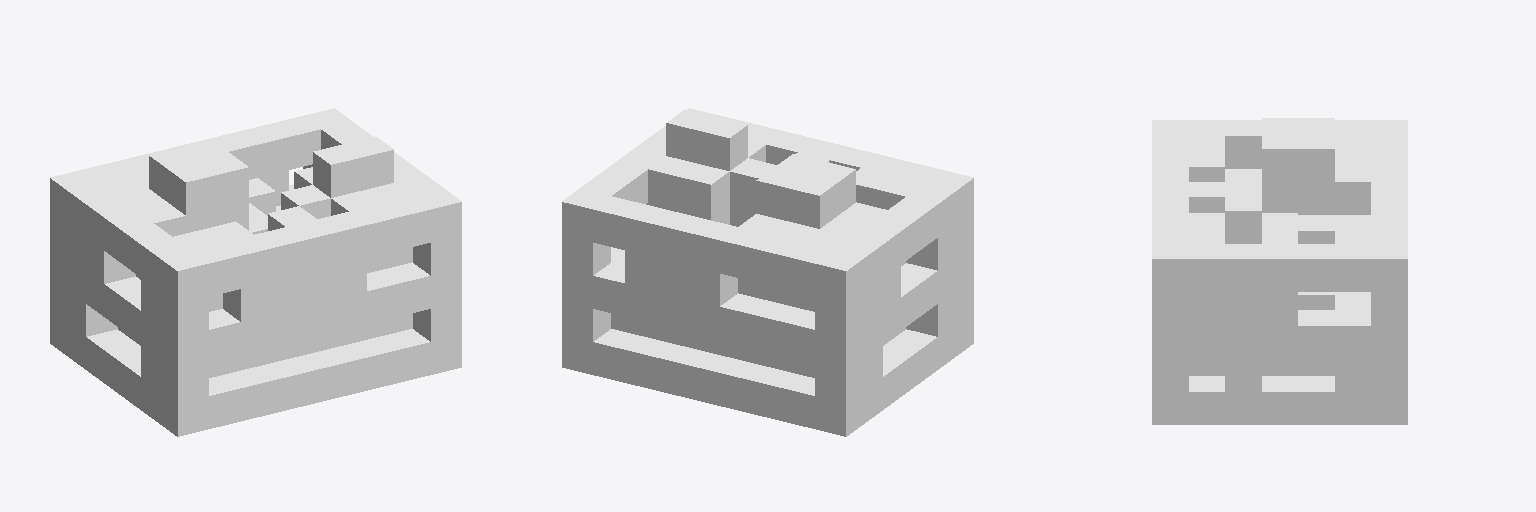
Rendered from box_red.vox.obj.
3 renders of one model, left to right at view 1: azimuth 30°, elevation 25°; view 2: azimuth 150°, elevation 25°; view 3: azimuth 270°, elevation 25°, orthographic.
Parts seen in each view (by area): view 1: object 1; view 2: object 1; view 3: object 1.
Part boxes in pixels (x1,y1,x2,y2): object 1: (50,108,461,436); object 1: (562,108,973,436); object 1: (1152,118,1407,424).
Size of the model in its own units: 0.9 by 0.6 by 0.7.